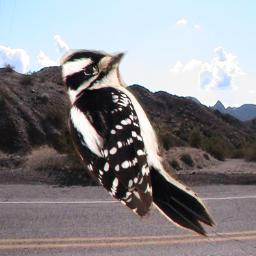Woodpecker: (60, 49, 217, 242)
